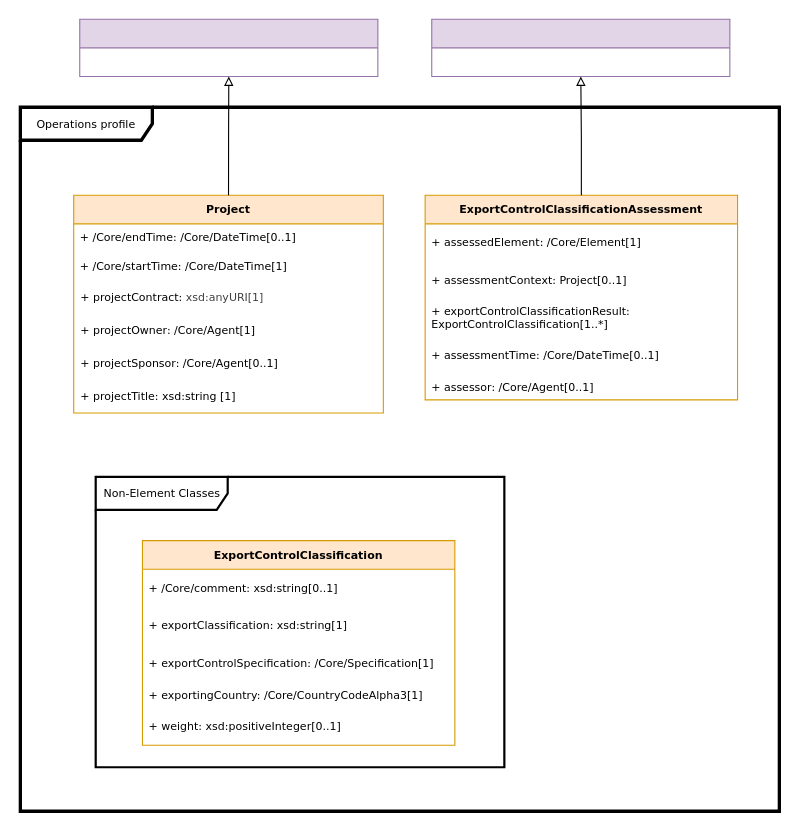
The diagram is 800 pixels wide and 832 high, and some of its shapes have lost their labels. The centre of each missing label's shape, as x and y in pixels:
"/Core/Artifact" belongs at (x=580, y=47).
"/Core/Bundle" belongs at (x=228, y=47).
